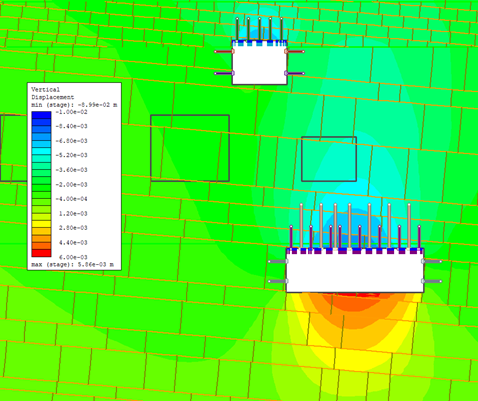crown: (334, 234, 378, 246), (247, 29, 271, 39)
label: (28, 82, 121, 269)
tunnel-opening: (285, 248, 423, 291), (231, 41, 287, 83)
